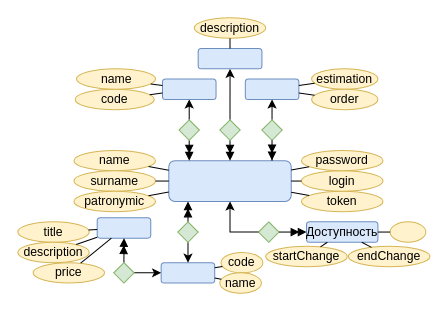
Some shapes in this 448 by 311 pixel diagram are drawn without their labels. Each missing label, with the centre of its shape:
date: point 407,231
Бонусы: point 123,227
Пользователи: point 229,180
Роль: point 187,272
Смены: point 271,88
Статусы: point 188,88
Штрафы: point 229,58
